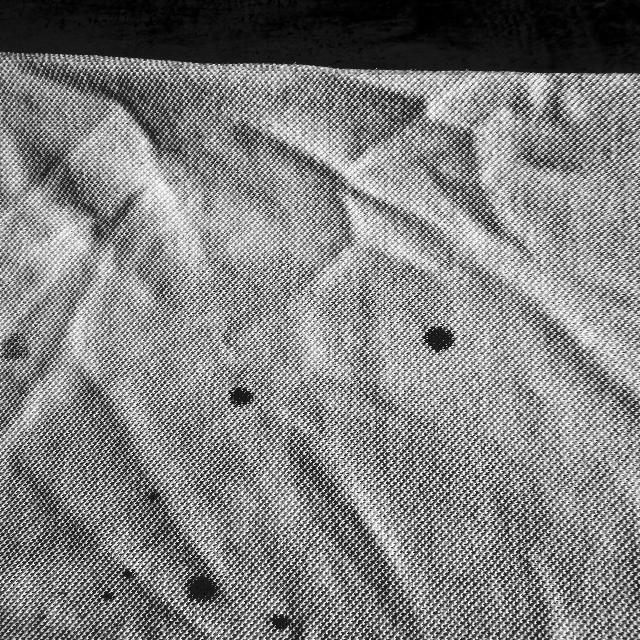Color_defect: (414, 320, 459, 355), (2, 328, 38, 366), (218, 383, 258, 412), (186, 570, 216, 605), (267, 615, 290, 631)
